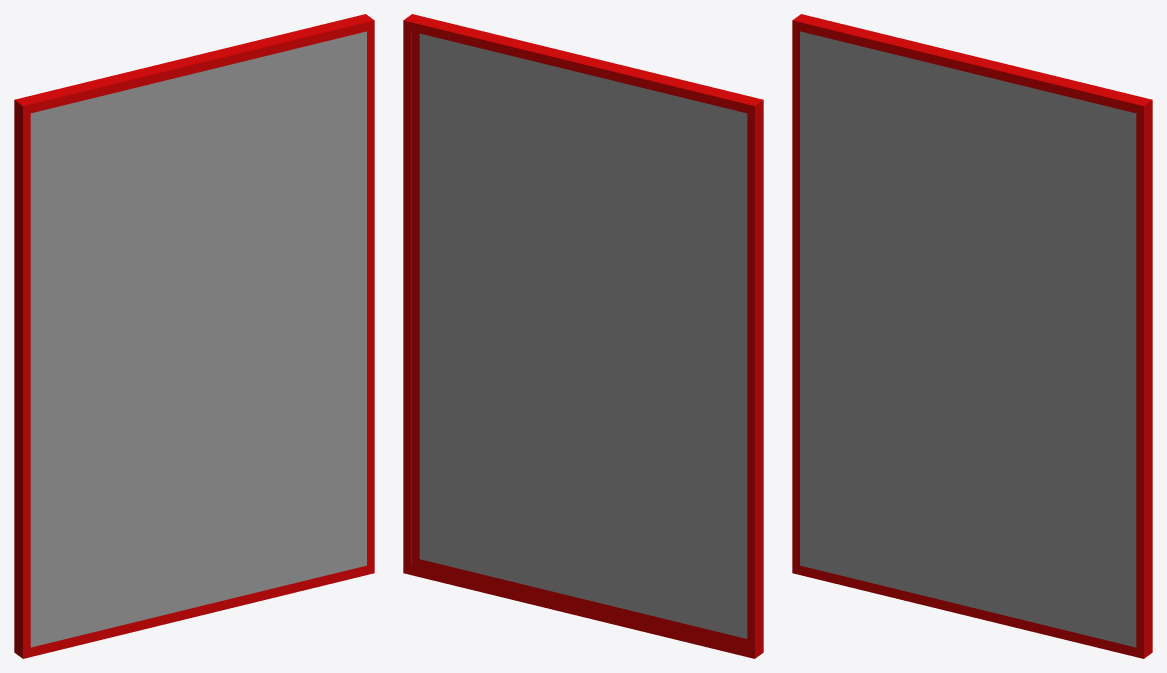
Rendered from MizoguchiFrame.fbx.
The picture shows the model from 3 angles, left to right: view 1: azimuth 30°, elevation 25°; view 2: azimuth 150°, elevation 25°; view 3: azimuth 330°, elevation 25°; orthographic projection.
Visible parts, largest first — view 1: MizoguchiFrames; view 2: MizoguchiFrames; view 3: MizoguchiFrames.
Part boxes in pixels (x1,y1,x2,y2): MizoguchiFrames: [14, 14, 374, 658]; MizoguchiFrames: [403, 14, 763, 658]; MizoguchiFrames: [792, 14, 1152, 658].
Bounding box in the file's own units: 198 × 297 × 8.52.
